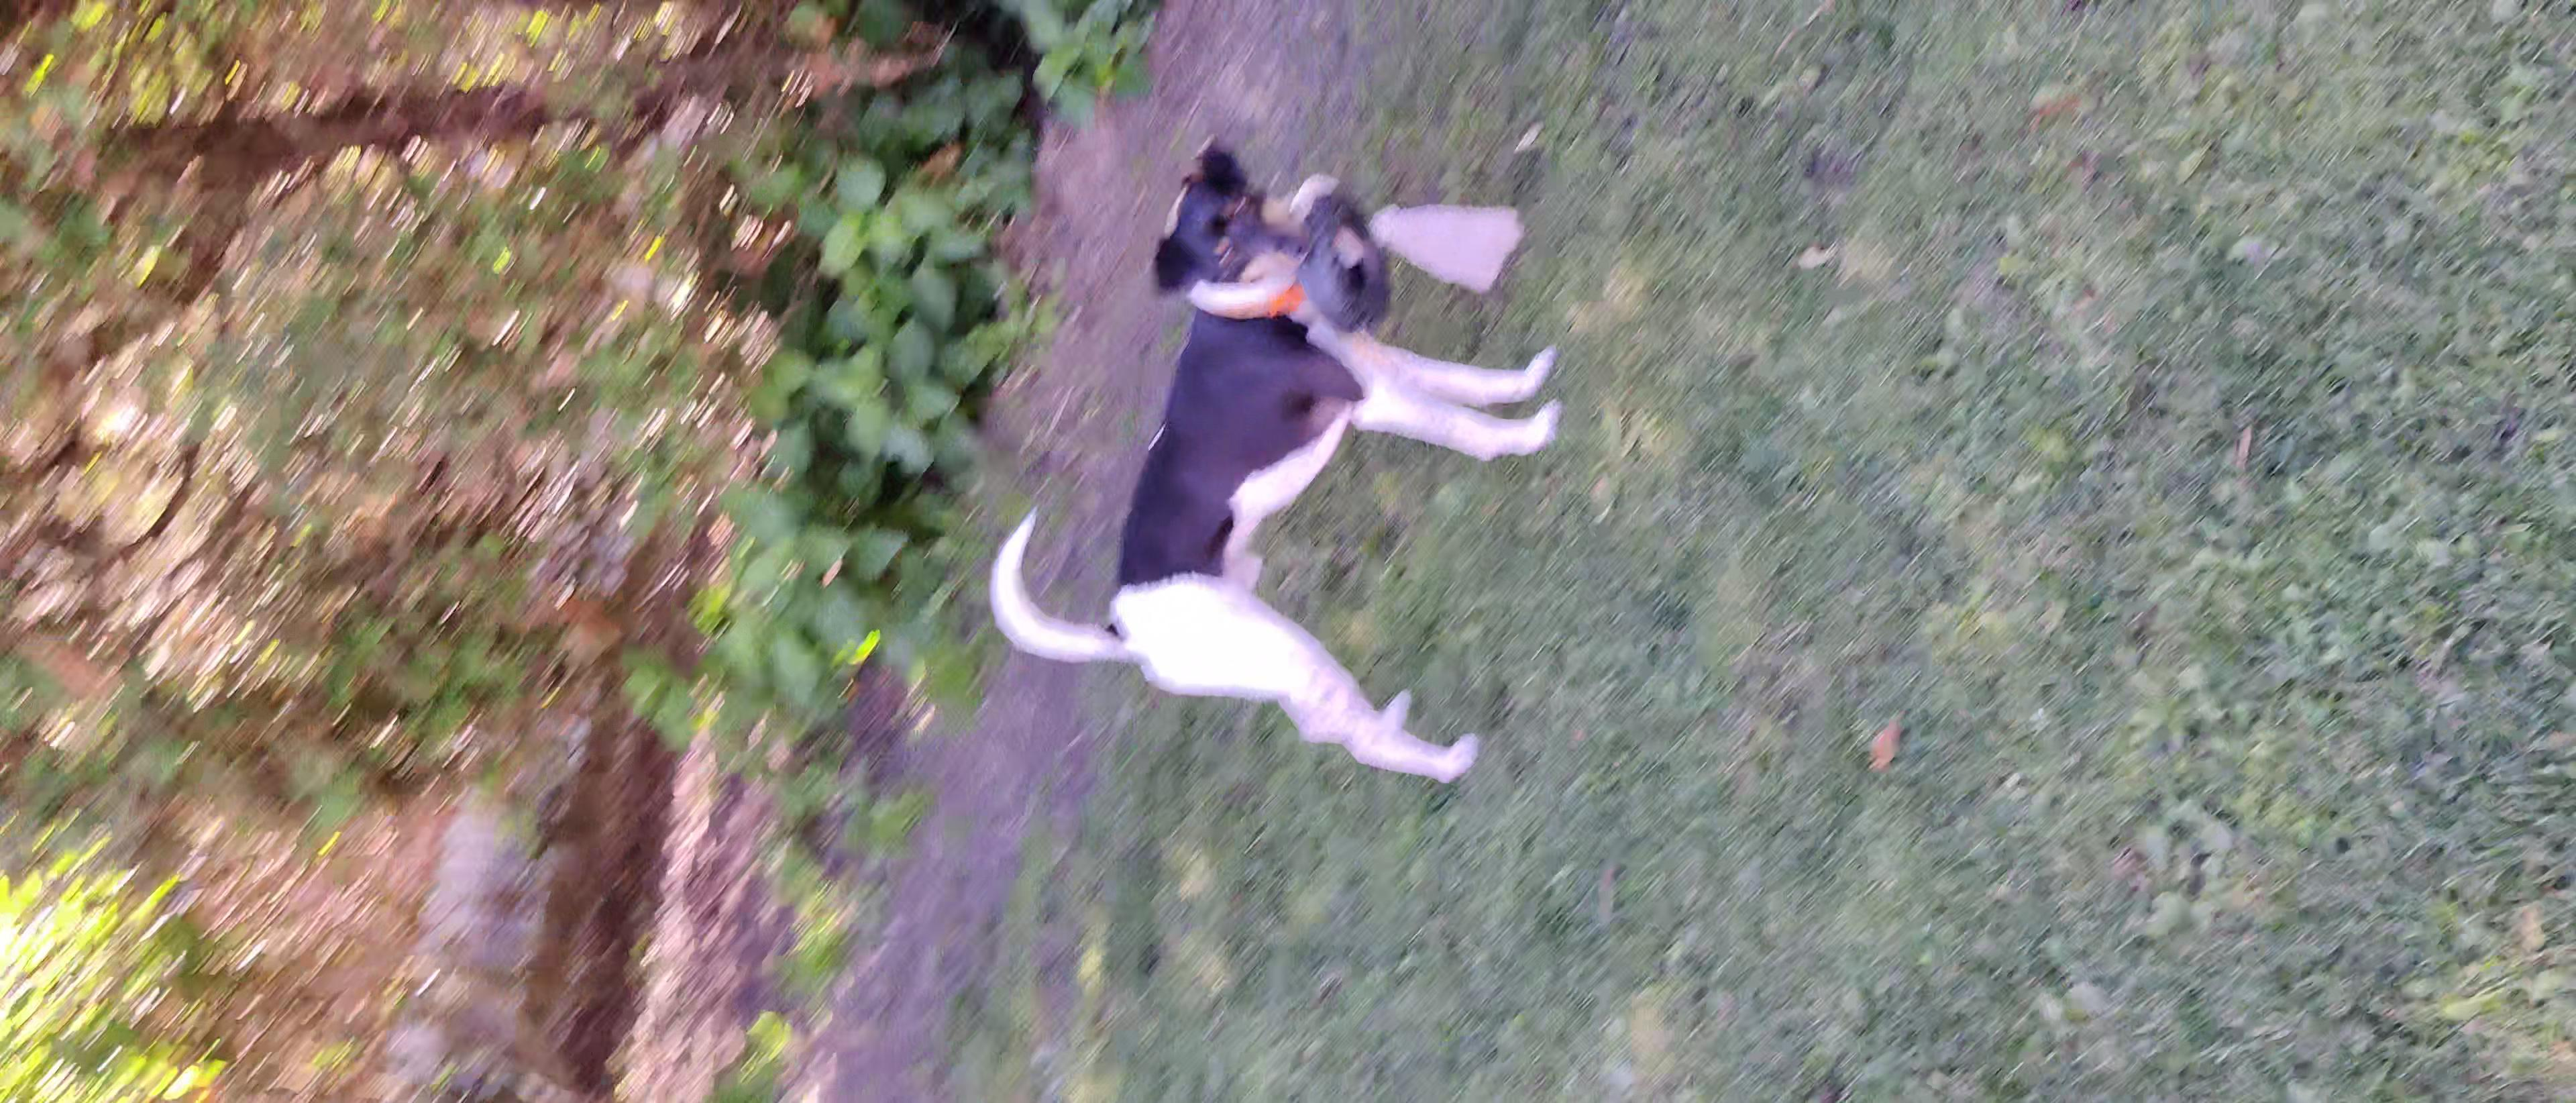Dog: (989, 113, 1569, 822)
